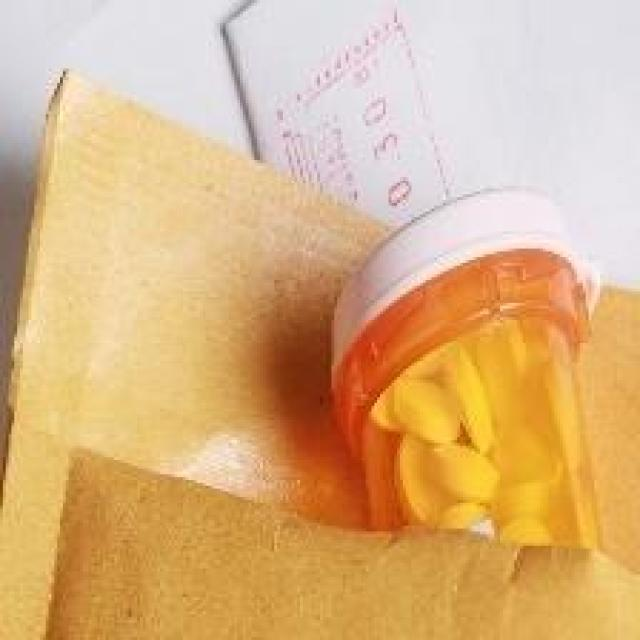Medicine: (326, 163, 627, 541)
